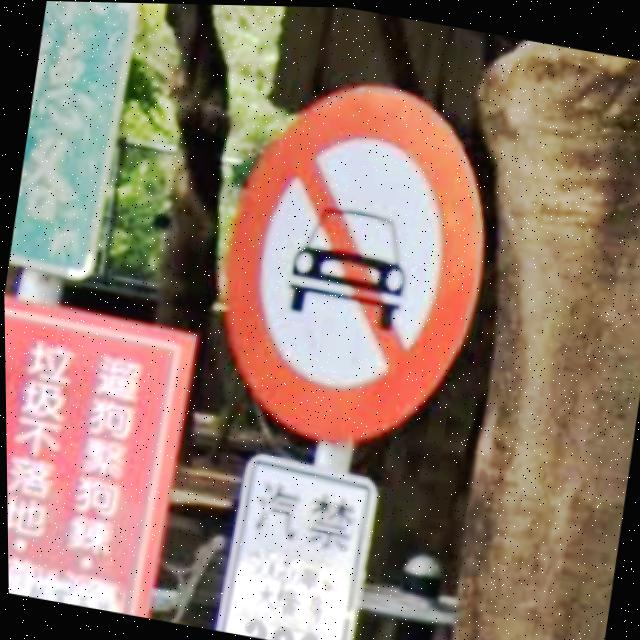nocar: (220, 84, 488, 445)
